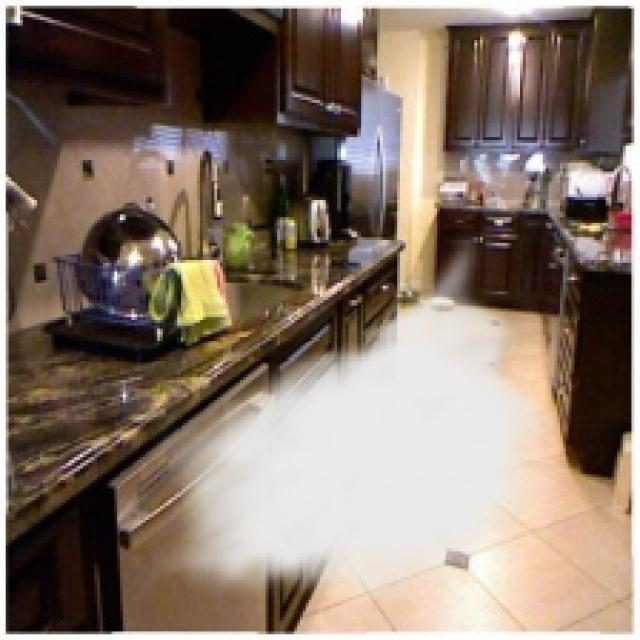smoke: (148, 226, 563, 614)
